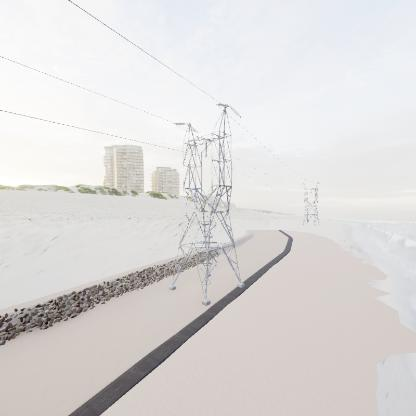tower: (167, 101, 245, 306), (297, 179, 323, 225)
